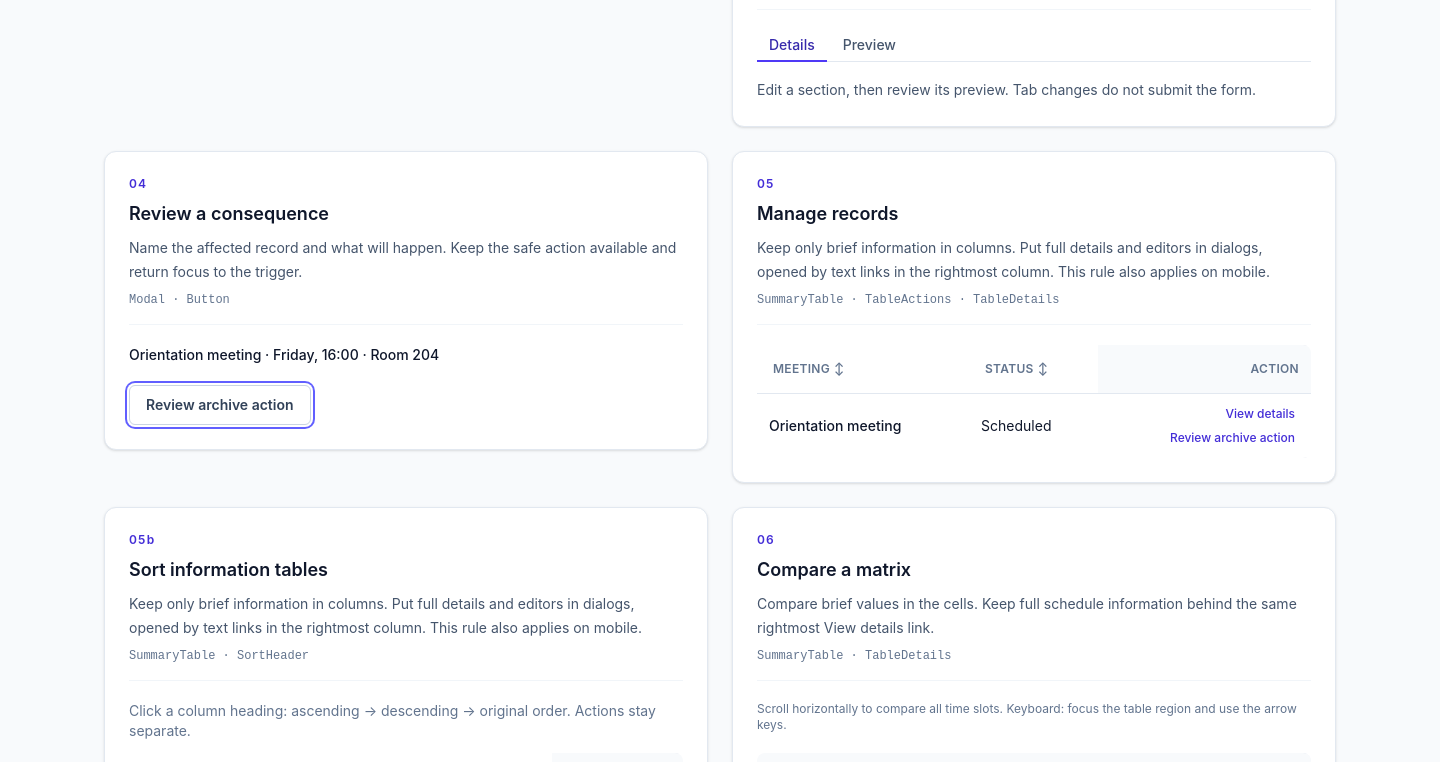
Scenario: uses the shared dialog and restores focus after cancel or confirmation
The width and height of the screenshot is (1440, 762).
(page scrolled)
Click the button "Review archive action" below "Modal · Button".
click(220, 405)  # box [129, 385, 310, 425]
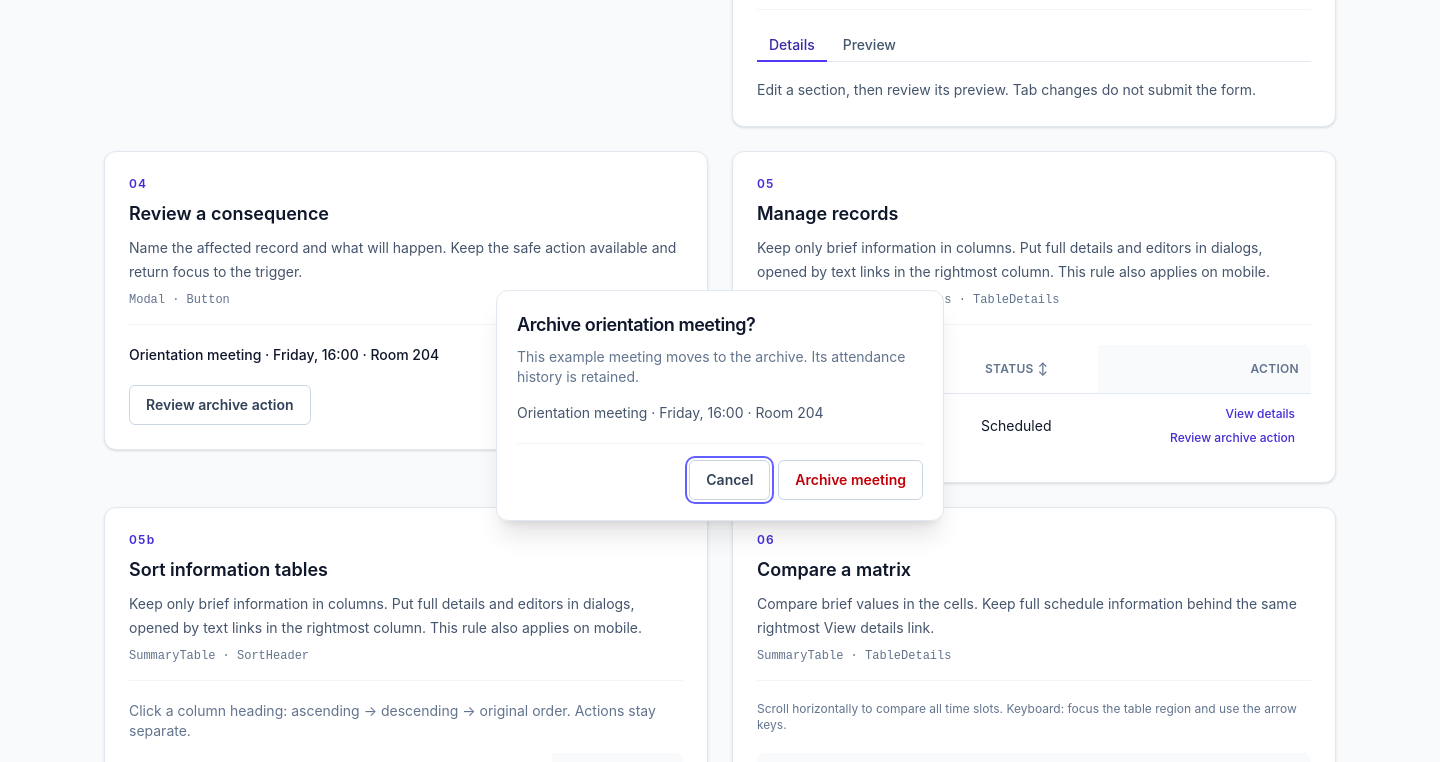
Click the button "Cancel".
click(730, 480)  # box [689, 460, 770, 500]
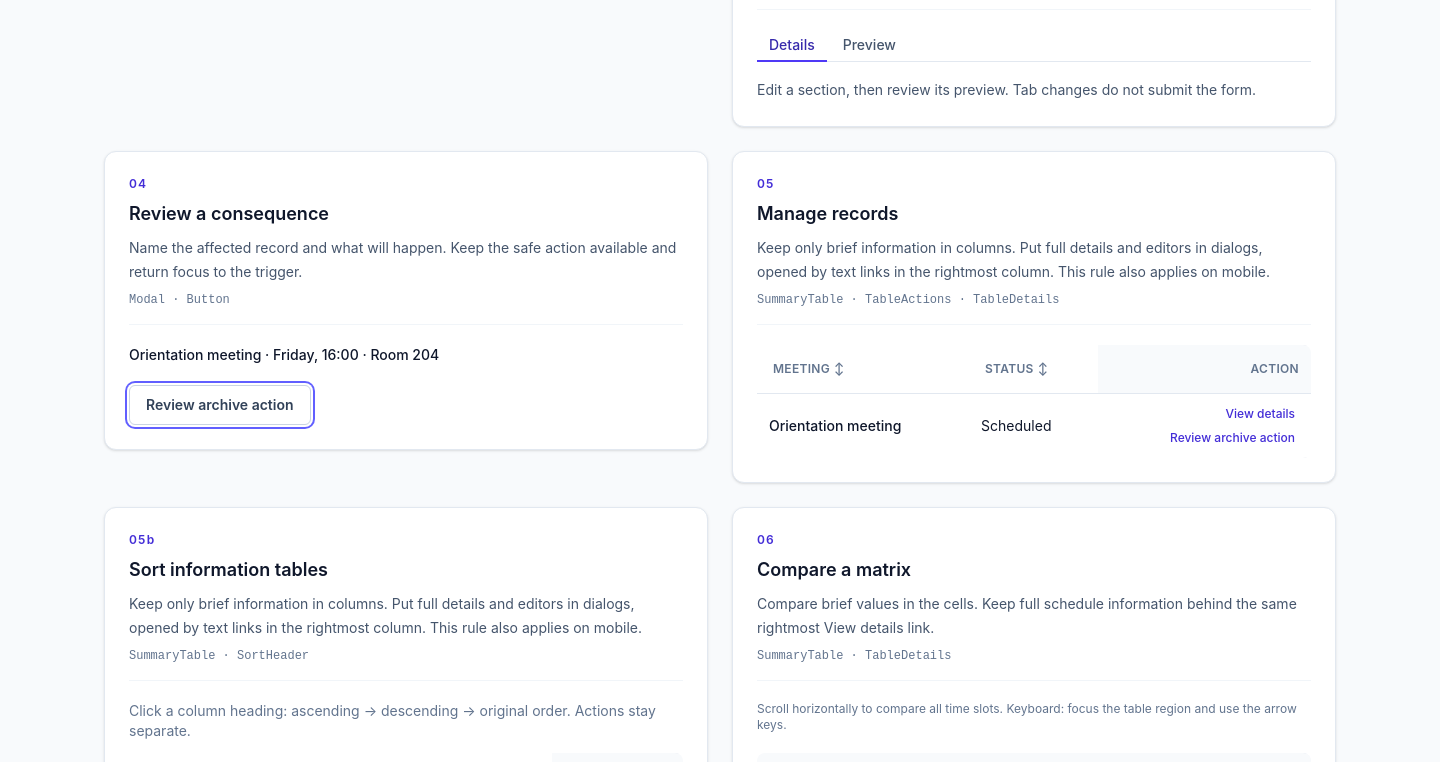
Expected: the dialog is gone
Click the button "Review archive action" below "Modal · Button".
click(220, 405)  # box [129, 385, 310, 425]
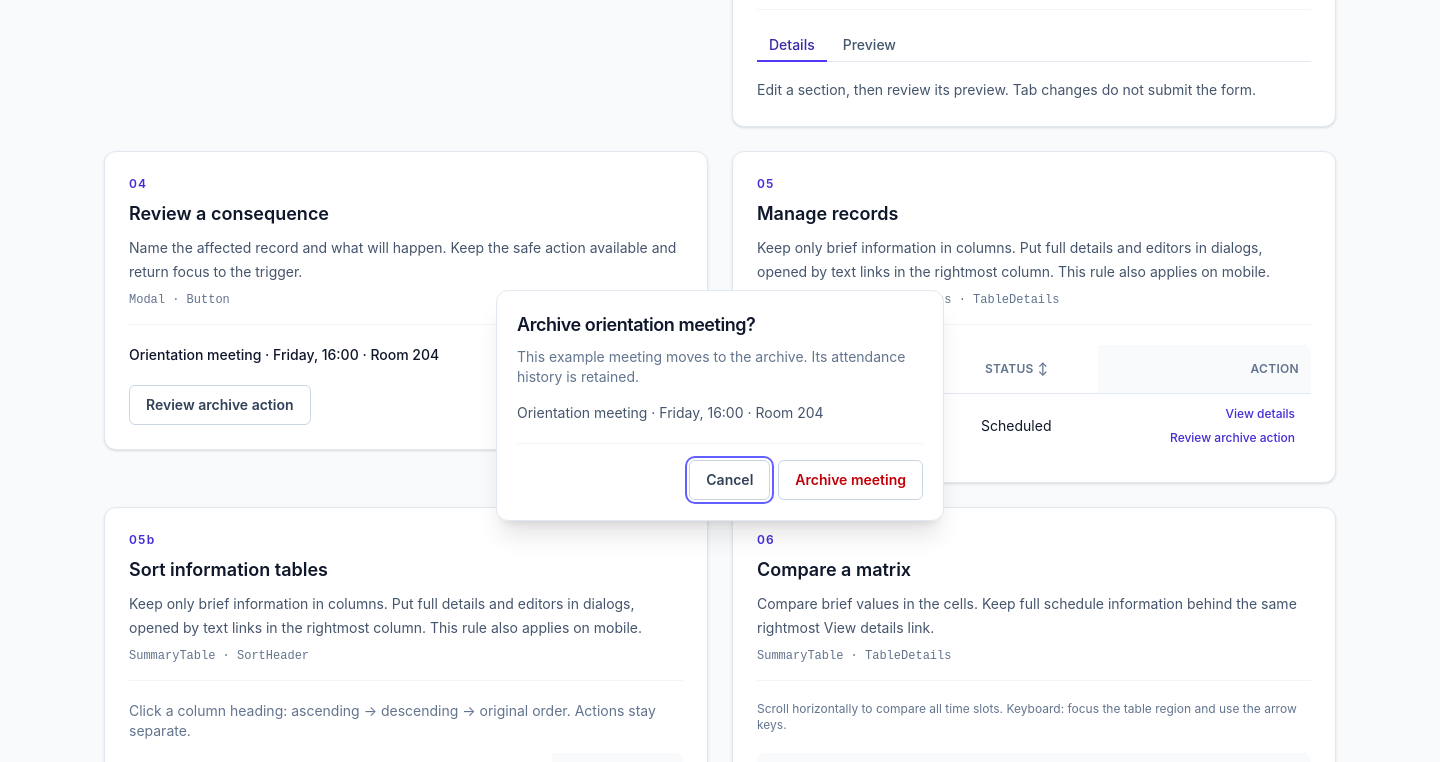
Click the button "Archive meeting".
click(851, 480)  # box [778, 460, 923, 500]
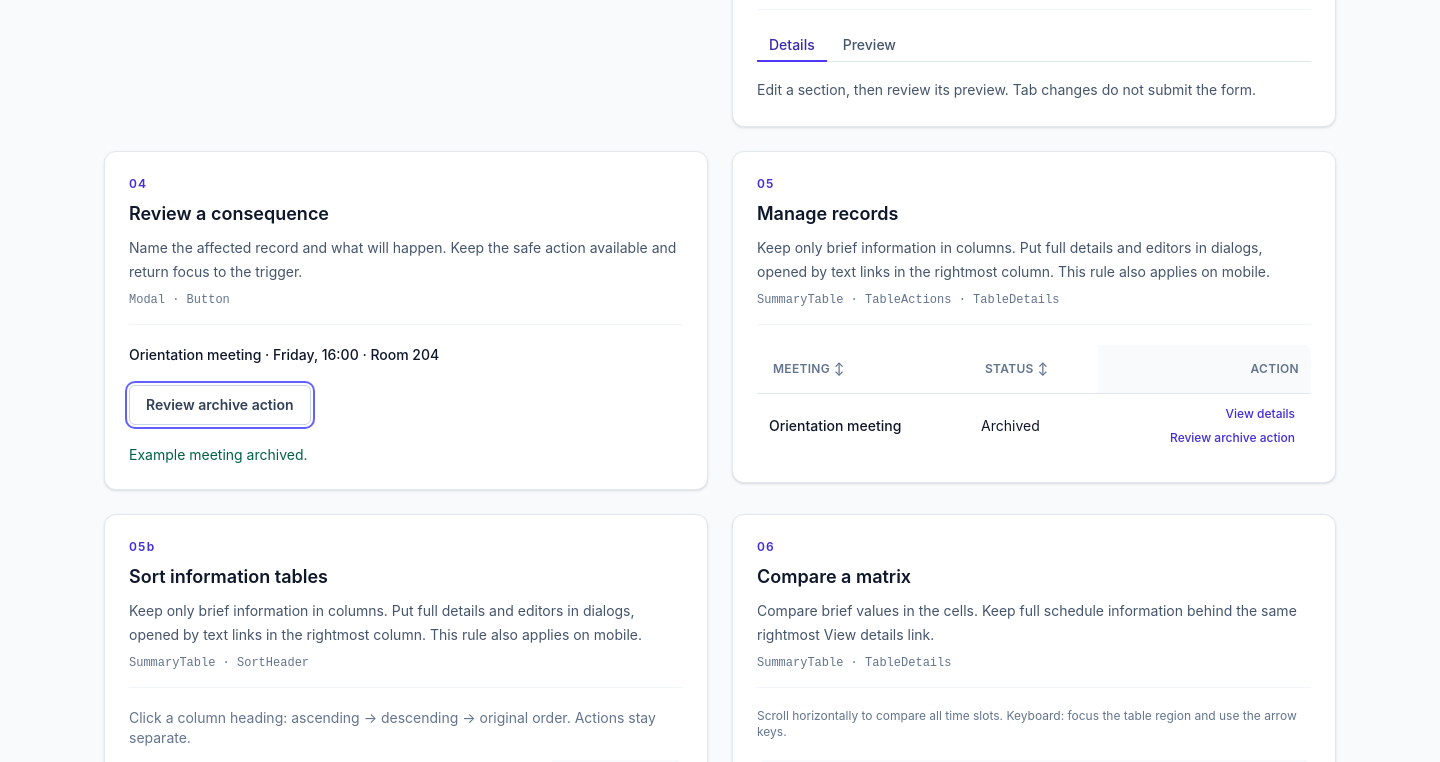
Expected: the text "Example meeting archived." is shown, [129, 446, 308, 463]
